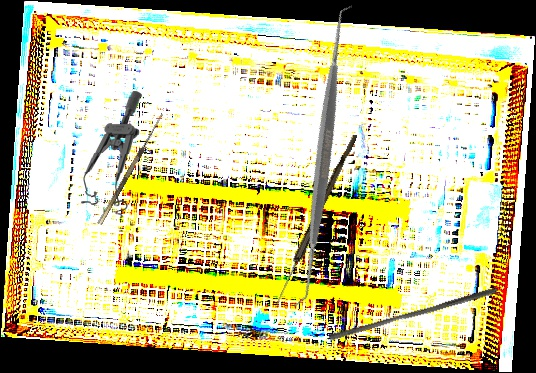Hook Surgical: (91, 109, 166, 226)
Pusher: (327, 280, 499, 347)
Spatula Surgical: (173, 4, 473, 308)
Speculum: (80, 88, 142, 219)
Surgical Spoon: (273, 132, 358, 307)
